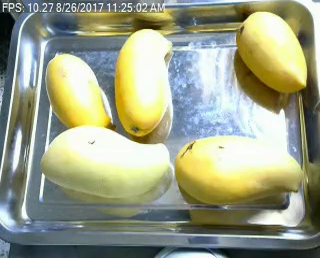Mango: (39, 125, 171, 197), (175, 136, 304, 204), (115, 29, 172, 137), (235, 10, 308, 90), (44, 52, 110, 131)
